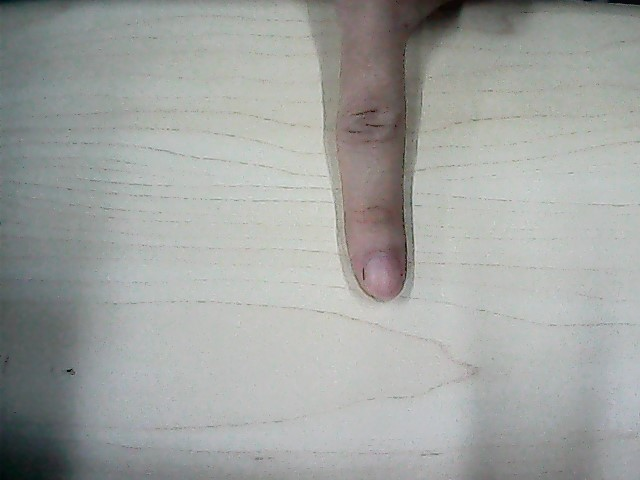nail: (363, 254, 404, 301)
